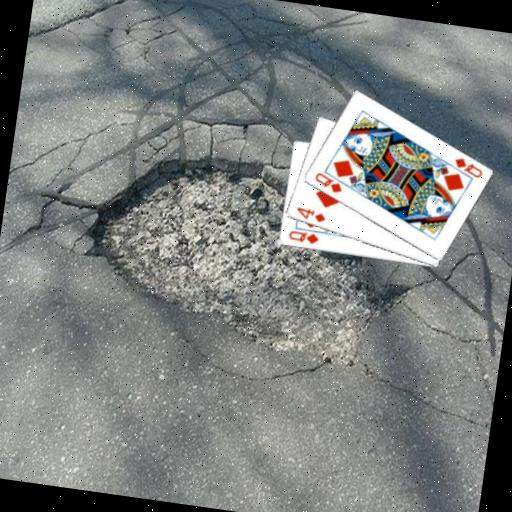4D: (292, 204, 328, 225)
QD: (310, 169, 345, 196), (449, 154, 485, 180), (284, 227, 321, 247)
